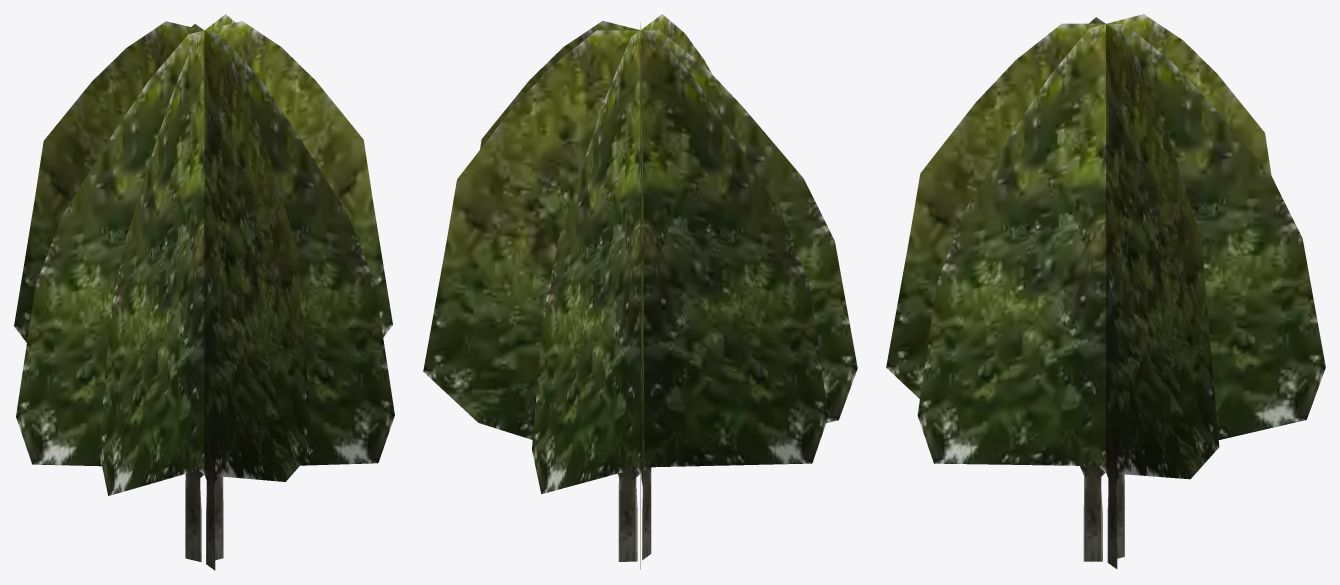
The model's file is tree.fbx.
3 renders of one model, left to right at view 1: azimuth 30°, elevation 25°; view 2: azimuth 150°, elevation 25°; view 3: azimuth 270°, elevation 25°, orthographic.
Visible parts, largest first — view 1: Plane.003; view 2: Plane.003; view 3: Plane.003.
Part boxes in pixels (x1=…): Plane.003: x1=14, y1=14, x2=394, y2=570; Plane.003: x1=423, y1=14, x2=857, y2=569; Plane.003: x1=886, y1=14, x2=1325, y2=568.
Bounding box in the file's own units: 299 × 403 × 299.
1 material, 1 textured.
